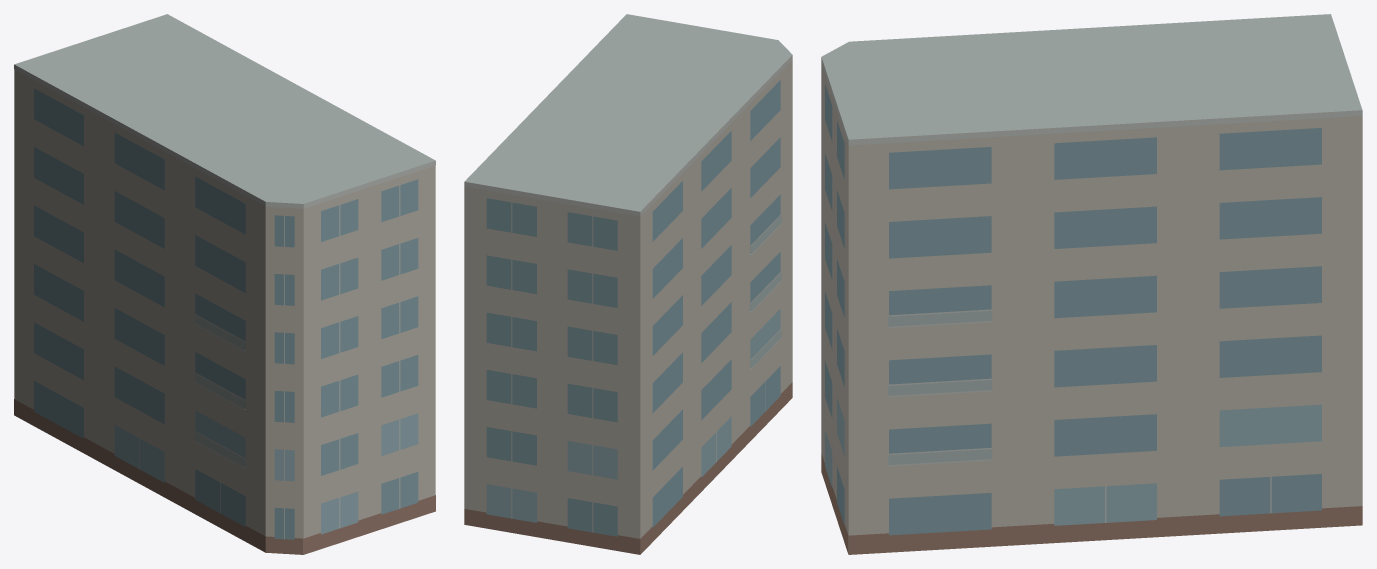
Rendered from survey-upis-32595567.glb.
3 views of the same model, side by side, from view 1: azimuth 30°, elevation 25°; view 2: azimuth 150°, elevation 25°; view 3: azimuth 270°, elevation 25° (orthographic). The views are drawn at different scales.
Visible parts, largest first — view 1: survey-upis-32595567.tmp; view 2: survey-upis-32595567.tmp; view 3: survey-upis-32595567.tmp.
Part boxes in pixels (<box>): survey-upis-32595567.tmp: <box>14,14,435,554</box>; survey-upis-32595567.tmp: <box>464,14,792,554</box>; survey-upis-32595567.tmp: <box>821,14,1362,554</box>.
Bounding box in the file's own units: 11.38 × 17.5 × 20.68.
